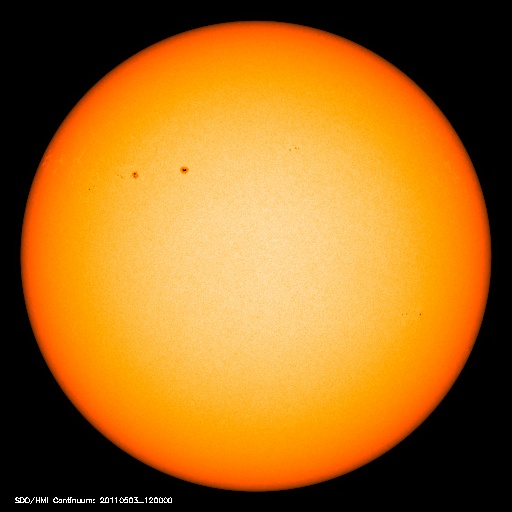sunspot: (113, 160, 196, 187), (397, 303, 433, 324)
